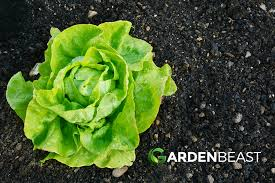lettuce: (33, 28, 155, 165)
